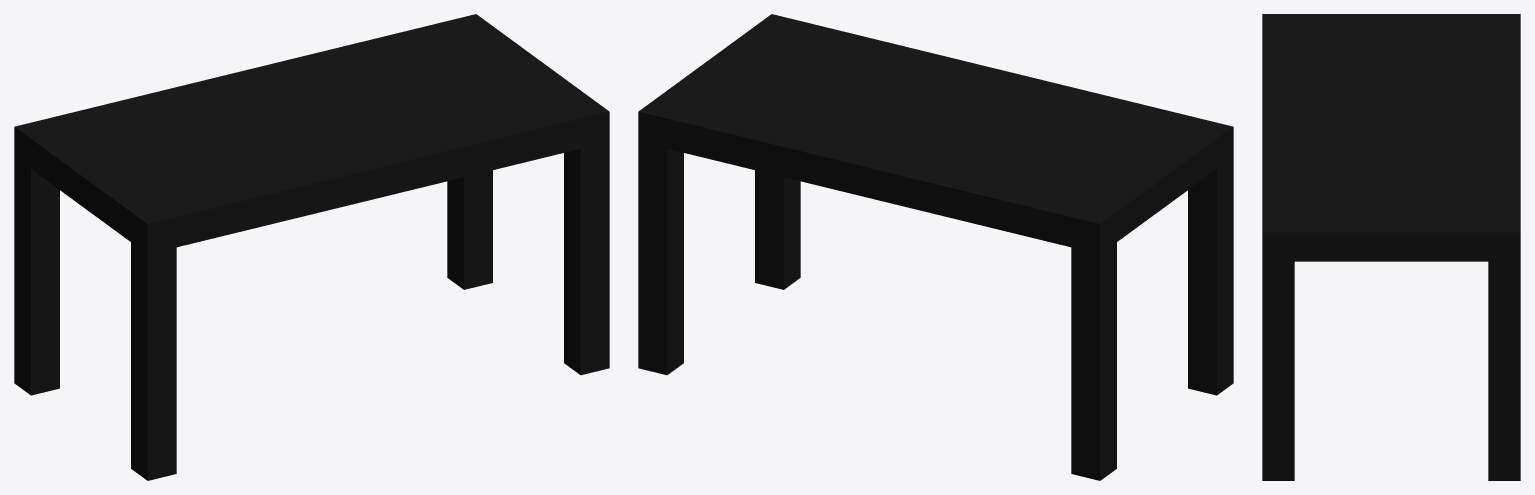
File: 41_table.glb
The picture shows the model from 3 angles, left to right: view 1: azimuth 30°, elevation 25°; view 2: azimuth 150°, elevation 25°; view 3: azimuth 270°, elevation 25°; orthographic projection. The views are drawn at different scales.
Visible parts, largest first — view 1: items/41_table; view 2: items/41_table; view 3: items/41_table.
Part boxes in pixels (x1,y1,x2,y2): items/41_table: (14,14,609,480); items/41_table: (638,14,1233,480); items/41_table: (1262,14,1520,480).
Bounding box in the file's own units: 2 × 1.06 × 1.
1 material, 1 textured.
